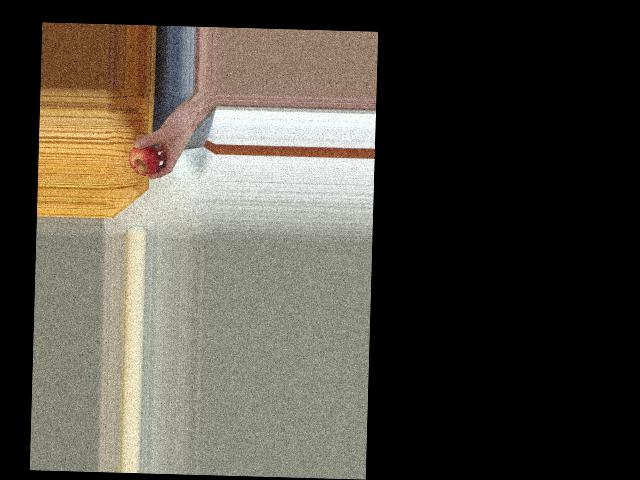apple: (127, 141, 162, 176)
